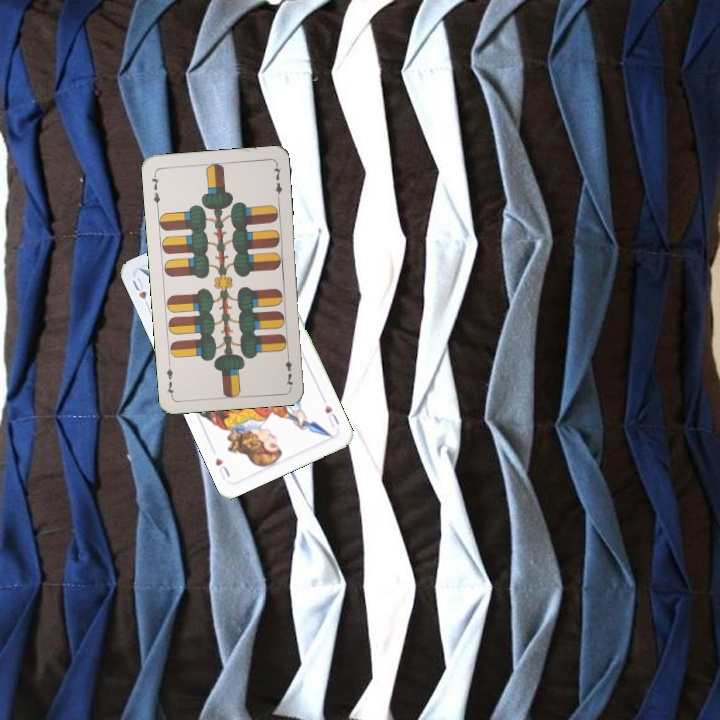E7: (281, 348, 296, 389), (148, 169, 162, 210)
HU: (128, 273, 152, 312), (321, 401, 342, 430)
